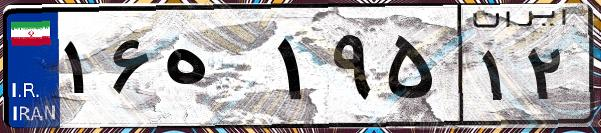1: (270, 28, 330, 110), (57, 26, 110, 100), (475, 38, 525, 113)
2: (525, 38, 570, 115)
5: (385, 28, 445, 110)
6: (110, 28, 158, 98)
9: (330, 28, 385, 110)
ه: (158, 20, 270, 120)
